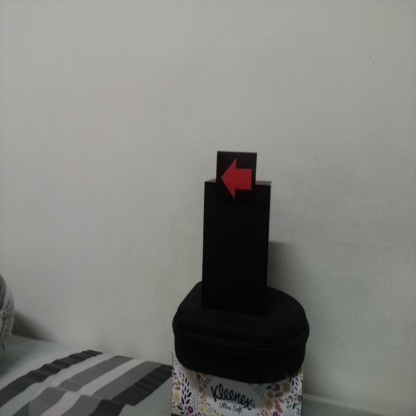id_4: (217, 151, 256, 204)
